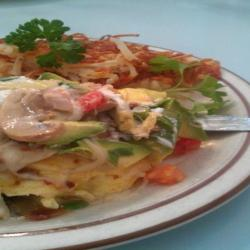omelette: (3, 82, 168, 207)
